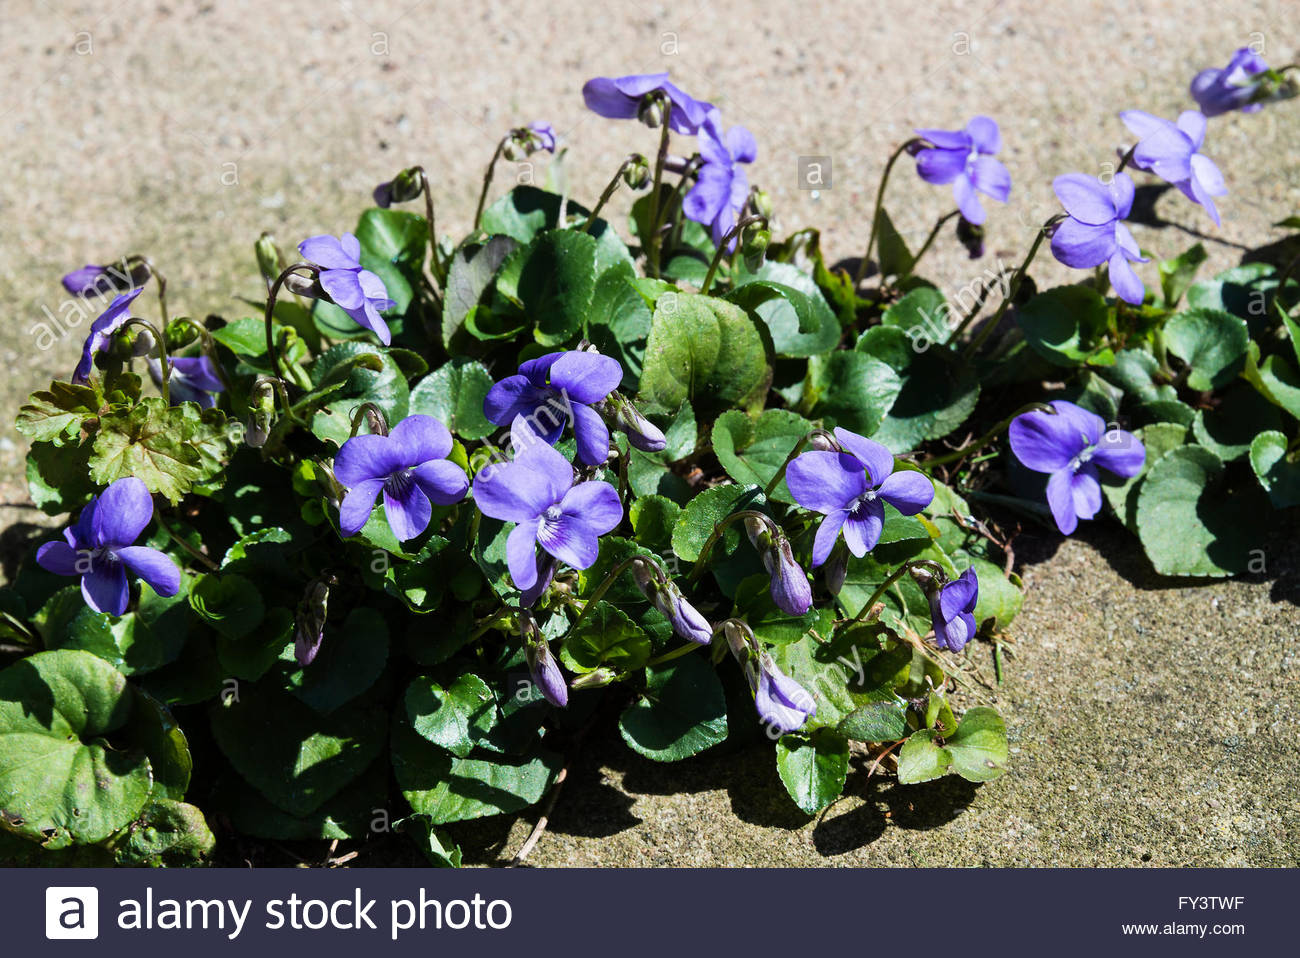violet: (601, 61, 796, 243), (436, 429, 632, 588), (757, 407, 924, 561), (486, 336, 655, 473), (46, 478, 195, 629), (1030, 168, 1162, 327), (993, 386, 1140, 522), (342, 409, 472, 537), (281, 219, 392, 368), (1104, 98, 1230, 224), (888, 109, 1005, 217)
